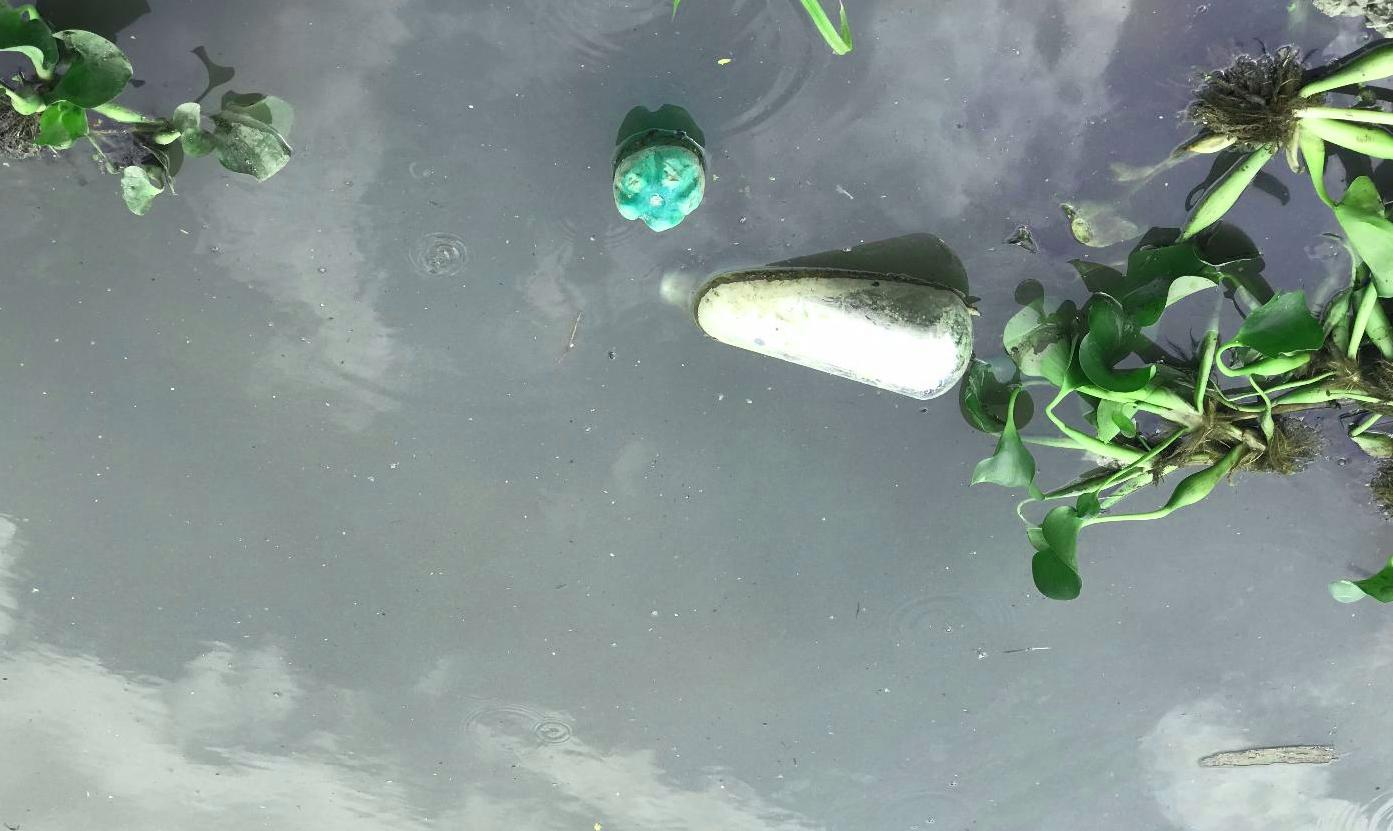Plastic: (696, 268, 974, 405), (606, 136, 711, 237)
